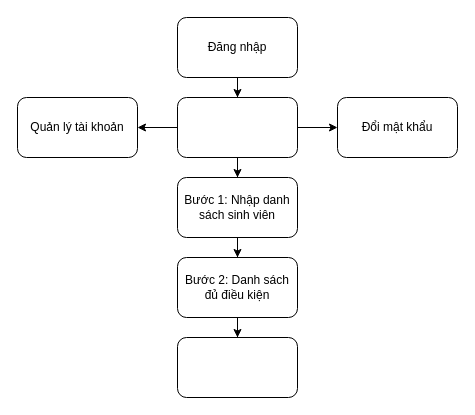
The diagram is 475 pixels wide and 415 high, and some of its shapes have lost their labels. The centre of each missing label's shape, as x and y in pixels:
Bước 3: Buổi thi: the point at 237,367
Màn hình chính: the point at 237,127
